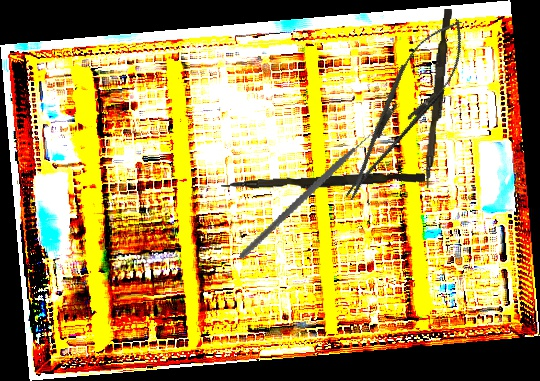Chopper: (238, 105, 388, 288)
Needle Holder: (326, 6, 481, 212)
Pusher: (220, 167, 426, 197), (423, 8, 453, 189)
